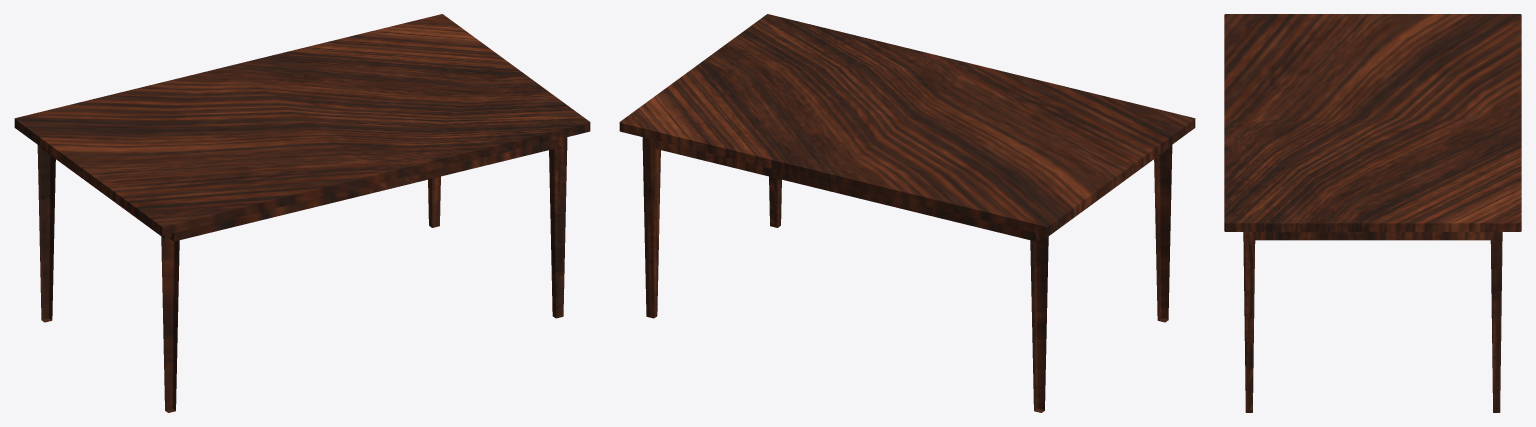
Rendered from table.glb.
3 renders of one model, left to right at view 1: azimuth 30°, elevation 25°; view 2: azimuth 150°, elevation 25°; view 3: azimuth 270°, elevation 25°, orthographic.
Visible parts, largest first — view 1: Cube; view 2: Cube; view 3: Cube.
Boxes of the visible parts, box(x1,y1,x2,y2) form: Cube: box(14, 14, 590, 412); Cube: box(619, 14, 1195, 412); Cube: box(1224, 14, 1521, 412).
Size of the model in its own units: 2 by 0.8823 by 1.2.
1 material, 1 textured.
